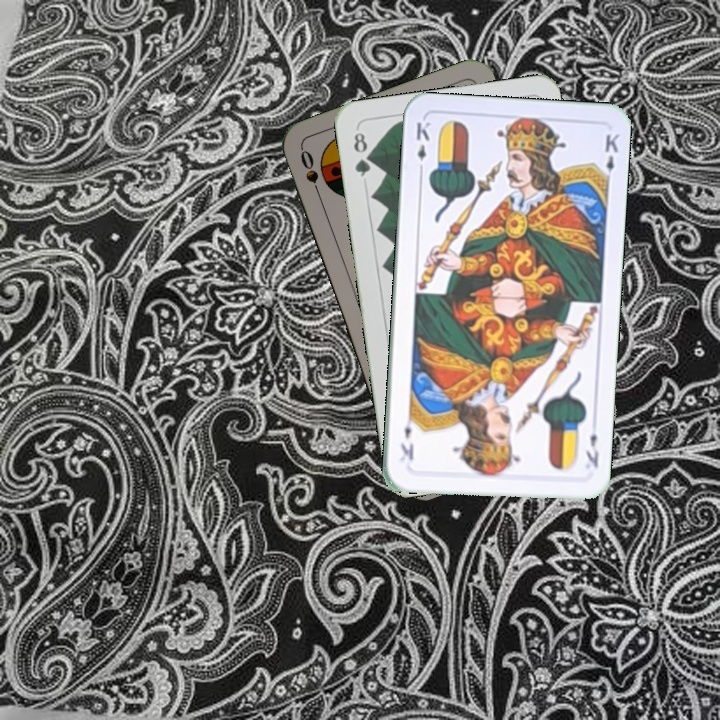EK: (412, 117, 432, 176), (582, 429, 601, 471)
G8: (349, 128, 374, 179)
SO: (296, 145, 325, 203)
